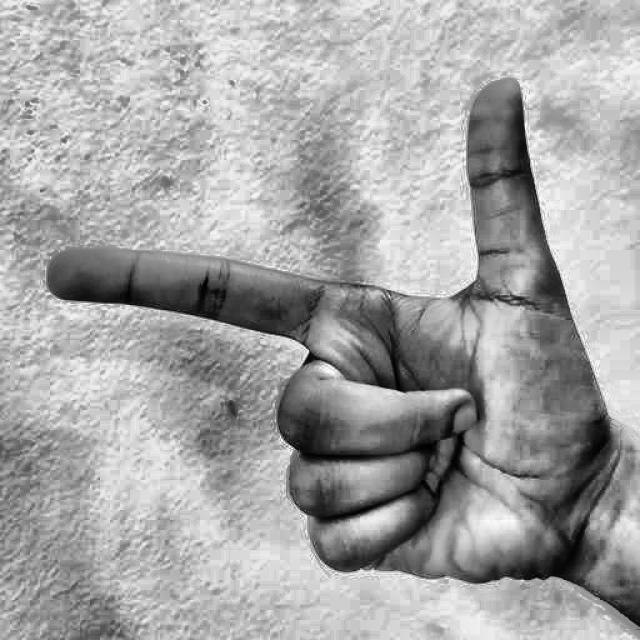Tha: (28, 57, 613, 608)
